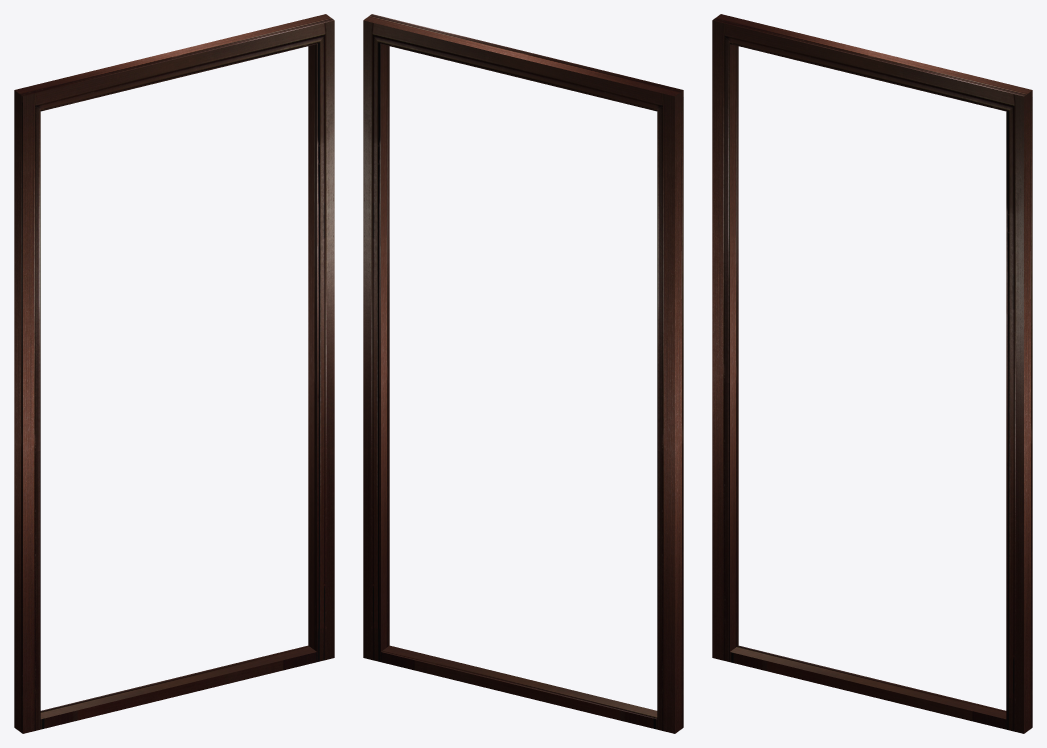
Rendered from Door01Frame.FBX.
3 views of the same model, side by side, from view 1: azimuth 30°, elevation 25°; view 2: azimuth 150°, elevation 25°; view 3: azimuth 330°, elevation 25° (orthographic).
Parts seen in each view (by area): view 1: Door01Frame; view 2: Door01Frame; view 3: Door01Frame.
Part boxes in pixels (x1,y1,x2,y2): Door01Frame: (14, 14, 334, 733); Door01Frame: (363, 14, 683, 733); Door01Frame: (712, 14, 1032, 733).
Size of the model in its own units: 44.42 by 86.76 by 2.17.
